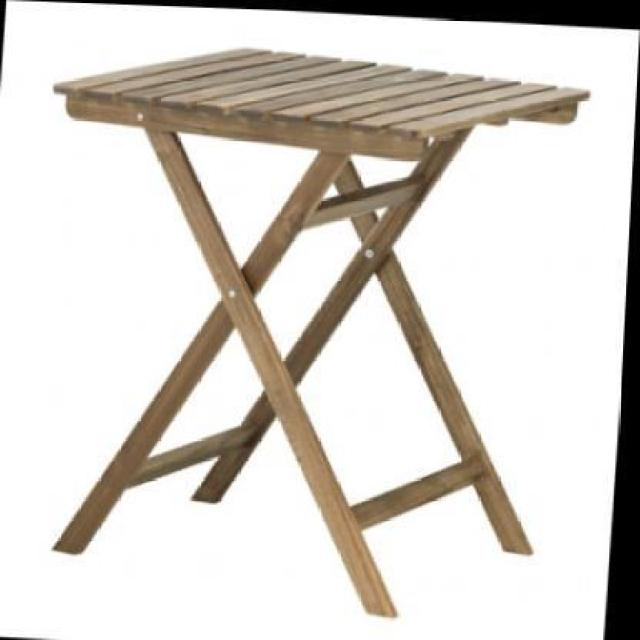tables: (49, 44, 591, 618)
